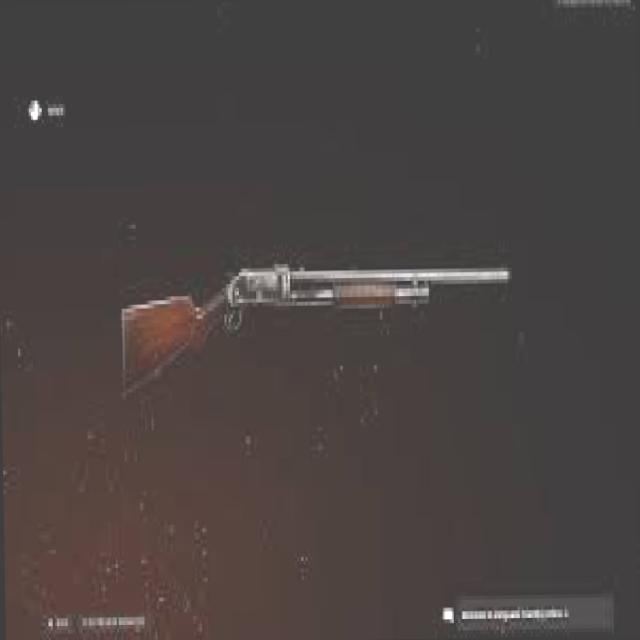long weapon: (108, 248, 517, 410)
